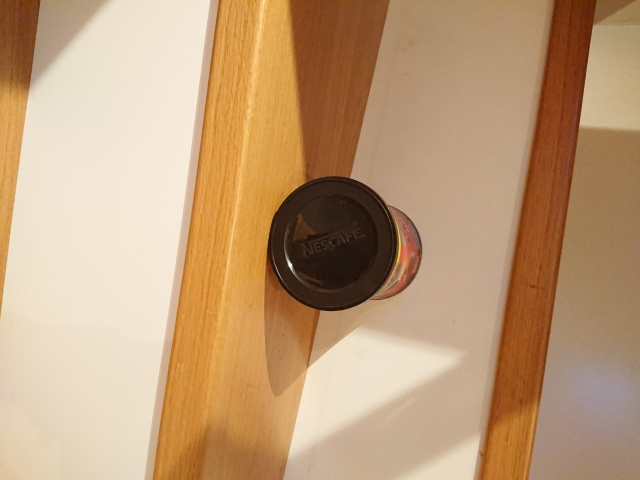Nescafe Classic 225g: (265, 173, 425, 315)
